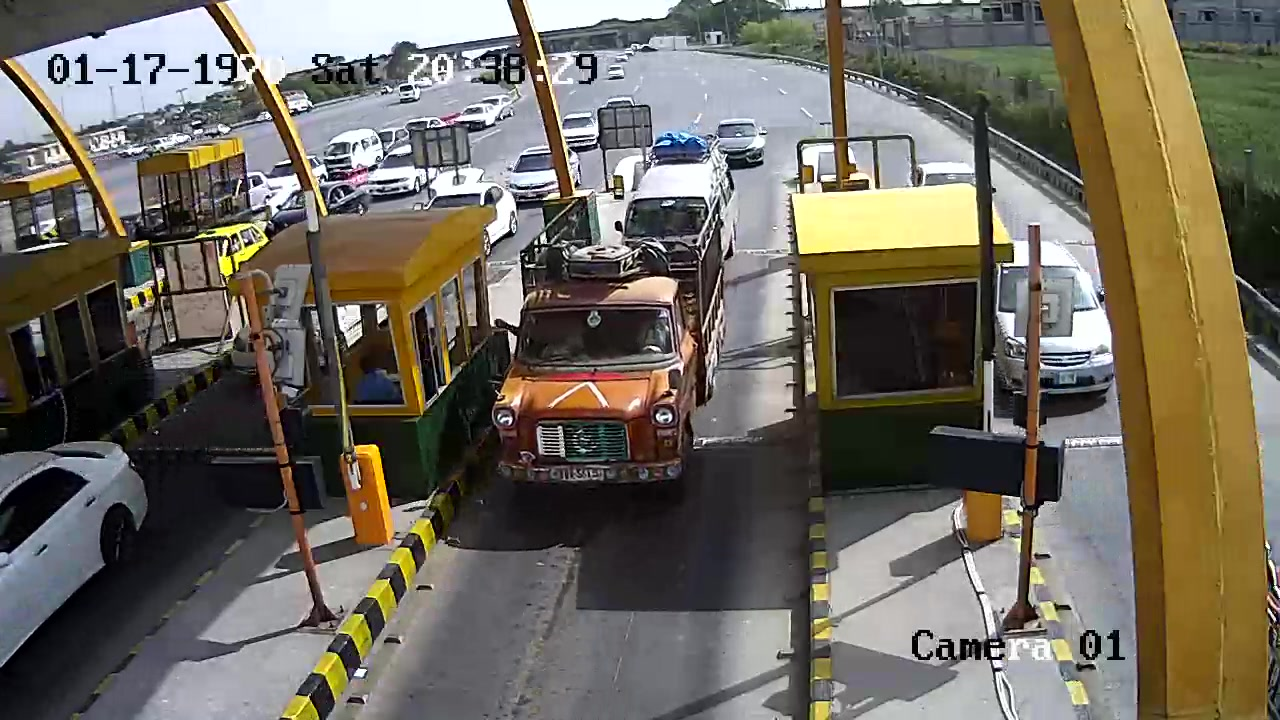F3: (489, 190, 732, 512)
